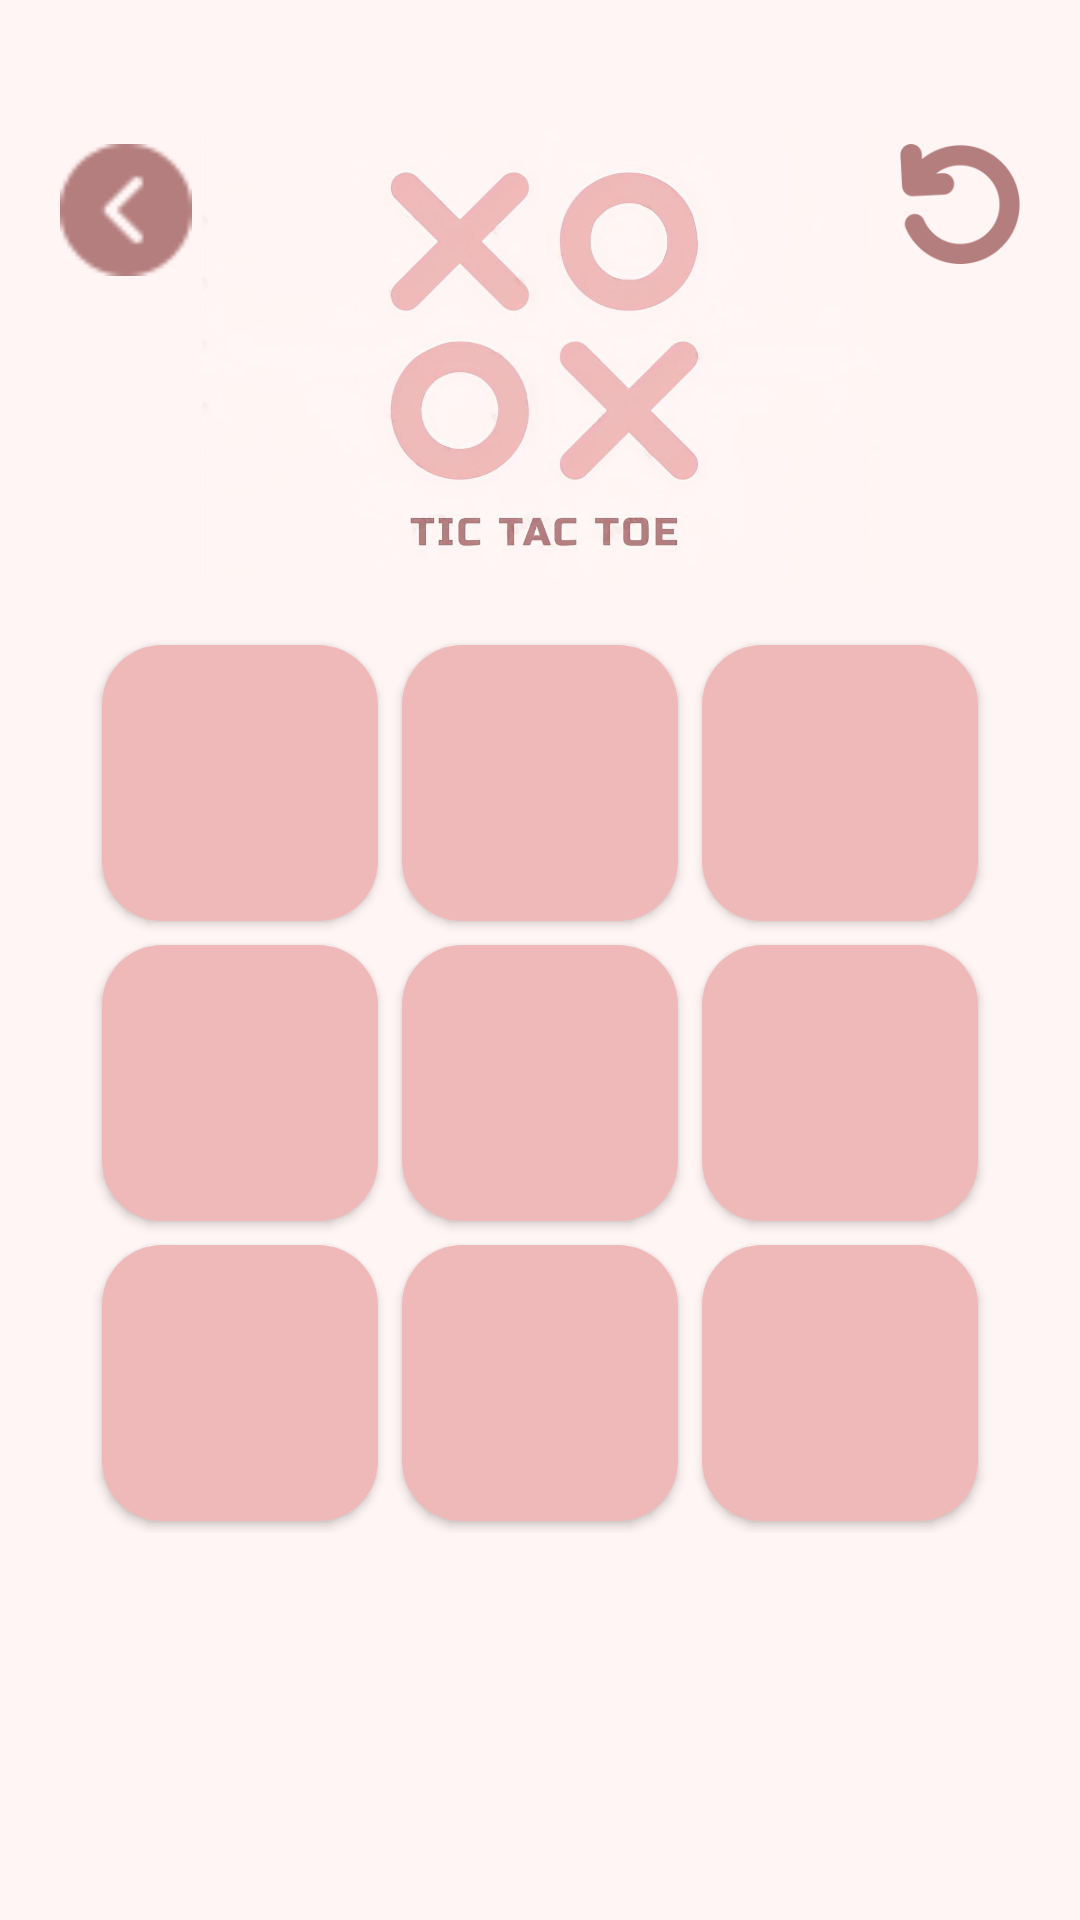

Named icons in this screenshot (1080w x 1920h) and their bounding boxes, (x1, y1, x2, y2):
back: (60, 144, 192, 276)
undo: (900, 144, 1020, 264)
